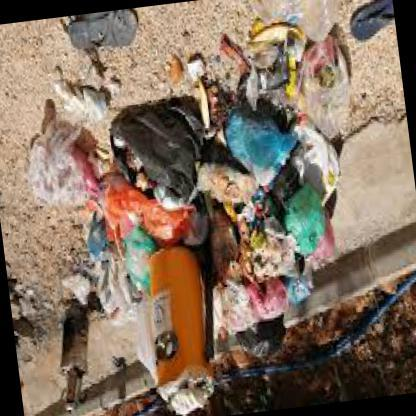Garbage: (166, 34, 354, 166), (199, 154, 346, 297), (98, 107, 215, 204), (219, 13, 312, 124), (153, 34, 237, 150), (61, 190, 188, 262), (26, 125, 105, 215), (210, 102, 290, 188), (271, 193, 339, 257), (60, 257, 136, 313), (116, 284, 160, 376), (247, 281, 313, 336), (44, 84, 118, 132), (113, 216, 150, 299), (228, 318, 288, 368), (152, 375, 221, 415), (71, 212, 116, 257), (158, 384, 202, 412)
